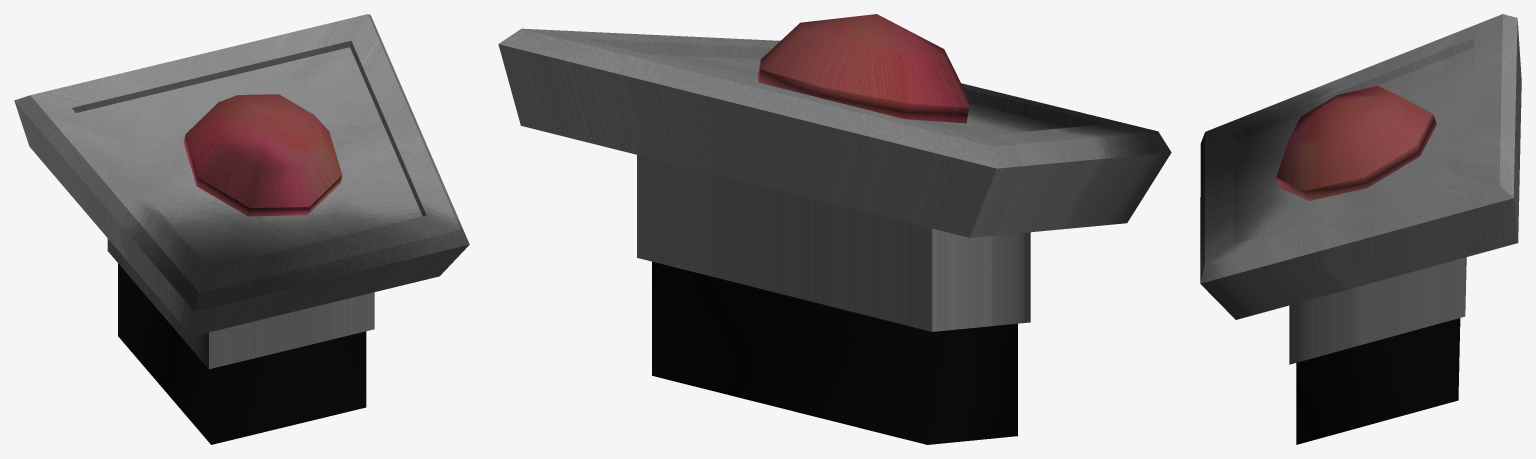
File: MemeFactory_RedButton_Art.glb
The picture shows the model from 3 angles, left to right: view 1: azimuth 30°, elevation 25°; view 2: azimuth 150°, elevation 25°; view 3: azimuth 270°, elevation 25°; orthographic projection. The views are drawn at different scales.
Visible parts, largest first — view 1: MemeFactory_RedButton_Art; view 2: MemeFactory_RedButton_Art; view 3: MemeFactory_RedButton_Art.
Boxes of the visible parts, left/top/right/bottom form: MemeFactory_RedButton_Art: left=14, top=14, right=469, bottom=444; MemeFactory_RedButton_Art: left=498, top=14, right=1171, bottom=444; MemeFactory_RedButton_Art: left=1200, top=14, right=1521, bottom=444.
Size of the model in its own units: 1.43 by 1.15 by 1.08.
3 materials, 3 textured.
